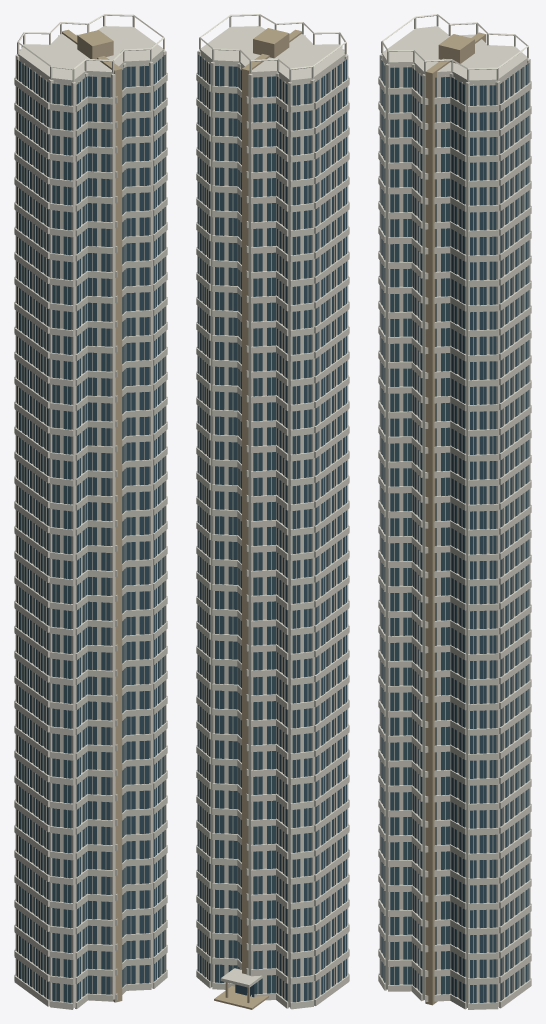
File: KOL_T1_URBANA__Tower_04.fbx
3 renders of one model, left to right at view 1: azimuth 30°, elevation 25°; view 2: azimuth 150°, elevation 25°; view 3: azimuth 330°, elevation 25°, orthographic.
Visible parts, largest first — view 1: KOL_T1_URBANA__Tower_04__KOL_T1_Pearl, KOL_T1_URBANA__Tower_04__KOL_T1_Glass, KOL_T1_URBANA__Tower_04__KOL_T1_Pearl.001, KOL_T1_URBANA__Tower_04__KOL_T1_Stone; view 2: KOL_T1_URBANA__Tower_04__KOL_T1_Pearl, KOL_T1_URBANA__Tower_04__KOL_T1_Glass, KOL_T1_URBANA__Tower_04__KOL_T1_Pearl.001, KOL_T1_URBANA__Tower_04__KOL_T1_Stone; view 3: KOL_T1_URBANA__Tower_04__KOL_T1_Pearl, KOL_T1_URBANA__Tower_04__KOL_T1_Glass, KOL_T1_URBANA__Tower_04__KOL_T1_Pearl.001, KOL_T1_URBANA__Tower_04__KOL_T1_Stone.
Boxes of the visible parts, bbox=[...] form: KOL_T1_URBANA__Tower_04__KOL_T1_Pearl: bbox=[14, 35, 167, 1009]; KOL_T1_URBANA__Tower_04__KOL_T1_Glass: bbox=[17, 54, 165, 1002]; KOL_T1_URBANA__Tower_04__KOL_T1_Pearl.001: bbox=[14, 14, 167, 312]; KOL_T1_URBANA__Tower_04__KOL_T1_Stone: bbox=[62, 29, 122, 1002]; KOL_T1_URBANA__Tower_04__KOL_T1_Pearl: bbox=[196, 35, 349, 1009]; KOL_T1_URBANA__Tower_04__KOL_T1_Glass: bbox=[198, 54, 346, 1002]; KOL_T1_URBANA__Tower_04__KOL_T1_Pearl.001: bbox=[196, 14, 349, 987]; KOL_T1_URBANA__Tower_04__KOL_T1_Stone: bbox=[214, 28, 301, 1009]; KOL_T1_URBANA__Tower_04__KOL_T1_Pearl: bbox=[378, 54, 531, 1009]; KOL_T1_URBANA__Tower_04__KOL_T1_Glass: bbox=[380, 58, 529, 1003]; KOL_T1_URBANA__Tower_04__KOL_T1_Pearl.001: bbox=[378, 14, 531, 303]; KOL_T1_URBANA__Tower_04__KOL_T1_Stone: bbox=[425, 32, 486, 1005].
Size of the model in its own units: 50.8 by 379 by 48.68.
